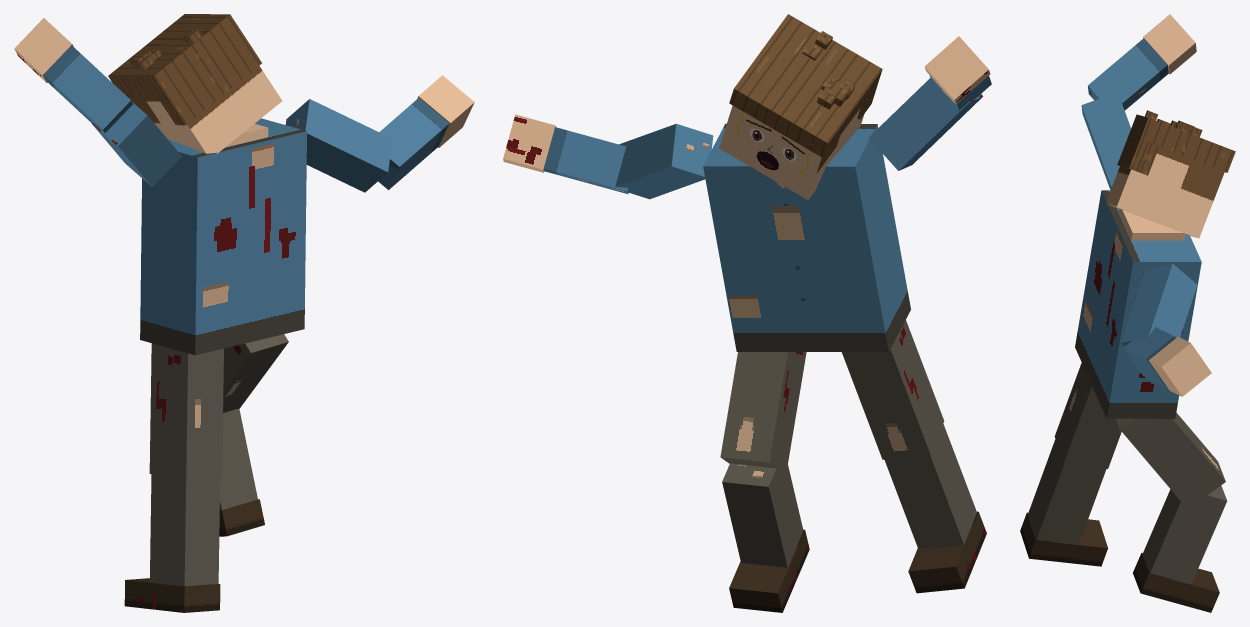
File: mon_civilian_panic.glb
The picture shows the model from 3 angles, left to right: view 1: azimuth 30°, elevation 25°; view 2: azimuth 150°, elevation 25°; view 3: azimuth 270°, elevation 25°; orthographic projection. The views are drawn at different scales.
Parts seen in each view (by area): view 1: block_torso, block_thigh.L, block_shin.L, block_hair-cap, block_upper_arm.R, block_head, block_hair-back, block_forearm.L, block_upper_arm.L, block_forearm.R, block_thigh.R, block_shin.R (+4 smaller); view 2: block_torso, block_hair-cap, block_thigh.L, block_thigh.R, block_shin.L, block_shin.R, block_head, block_upper_arm.R, block_upper_arm.L, block_forearm.R, block_foot.R, block_foot.L (+2 smaller); view 3: block_torso, block_head, block_thigh.R, block_shin.R, block_shin.L, block_thigh.L, block_upper_arm.R, block_forearm.L, block_upper_arm.L, block_hair-cap, block_foot.R, block_foot.L (+5 smaller).
Part boxes in pixels (left/top/right/bottom): block_torso: left=140, top=118, right=306, bottom=355; block_thigh.L: left=149, top=343, right=223, bottom=477; block_shin.L: left=149, top=474, right=220, bottom=586; block_hair-cap: left=108, top=14, right=243, bottom=96; block_upper_arm.R: left=285, top=99, right=392, bottom=192; block_head: left=128, top=66, right=282, bottom=154; block_hair-back: left=156, top=35, right=261, bottom=125; block_forearm.L: left=43, top=45, right=132, bottom=133; block_upper_arm.L: left=91, top=102, right=181, bottom=186; block_forearm.R: left=378, top=98, right=449, bottom=189; block_thigh.R: left=223, top=334, right=288, bottom=412; block_shin.R: left=219, top=408, right=257, bottom=510; block_torso: left=703, top=123, right=910, bottom=352; block_hair-cap: left=729, top=14, right=882, bottom=158; block_thigh.L: left=841, top=320, right=944, bottom=459; block_thigh.R: left=720, top=352, right=806, bottom=474; block_shin.L: left=884, top=424, right=976, bottom=549; block_shin.R: left=722, top=463, right=803, bottom=567; block_head: left=719, top=105, right=864, bottom=199; block_upper_arm.R: left=613, top=123, right=713, bottom=199; block_upper_arm.L: left=868, top=78, right=983, bottom=170; block_forearm.R: left=543, top=127, right=628, bottom=193; block_foot.R: left=729, top=529, right=809, bottom=612; block_foot.L: left=908, top=511, right=986, bottom=593; block_torso: left=1075, top=190, right=1201, bottom=418; block_head: left=1106, top=147, right=1224, bottom=238; block_thigh.R: left=1116, top=412, right=1225, bottom=509; block_shin.R: left=1142, top=485, right=1227, bottom=584; block_shin.L: left=1028, top=439, right=1106, bottom=544; block_thigh.L: left=1054, top=363, right=1121, bottom=468; block_upper_arm.R: left=1121, top=263, right=1197, bottom=346; block_forearm.L: left=1087, top=38, right=1168, bottom=110; block_upper_arm.L: left=1081, top=92, right=1130, bottom=189; block_hair-cap: left=1128, top=114, right=1235, bottom=172; block_foot.R: left=1133, top=553, right=1219, bottom=612; block_foot.L: left=1020, top=512, right=1107, bottom=566.
Size of the model in its own units: 1.59 by 1.93 by 0.7264.
Materials: 1 (1 with a texture image).
